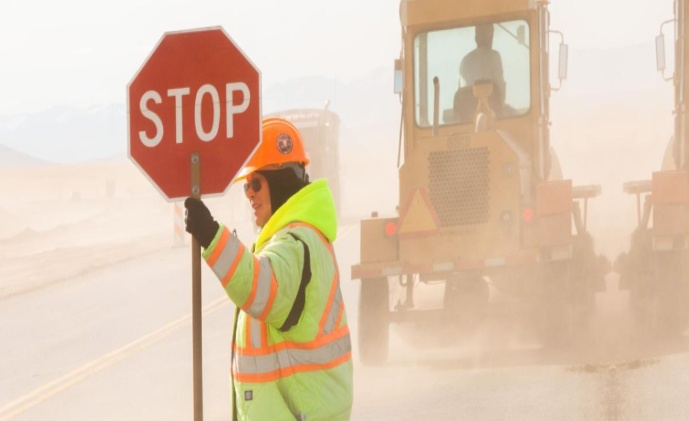Stop: (122, 18, 262, 205)
